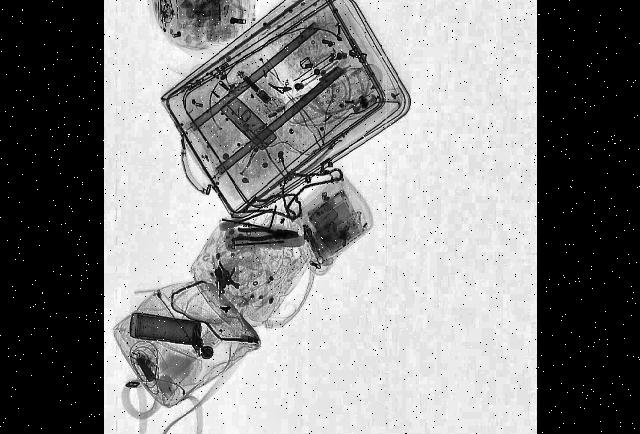Pliers: (235, 226, 297, 242)
